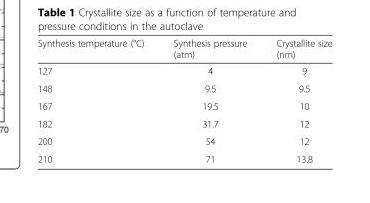table: (36, 36, 331, 164)
table column: (36, 36, 158, 164), (158, 36, 261, 164), (261, 36, 331, 164)
table column header: (36, 36, 331, 62)
table row: (36, 36, 331, 62), (36, 96, 331, 114), (36, 114, 331, 132), (36, 62, 331, 79), (36, 79, 331, 96), (36, 132, 331, 149), (36, 149, 331, 164)
